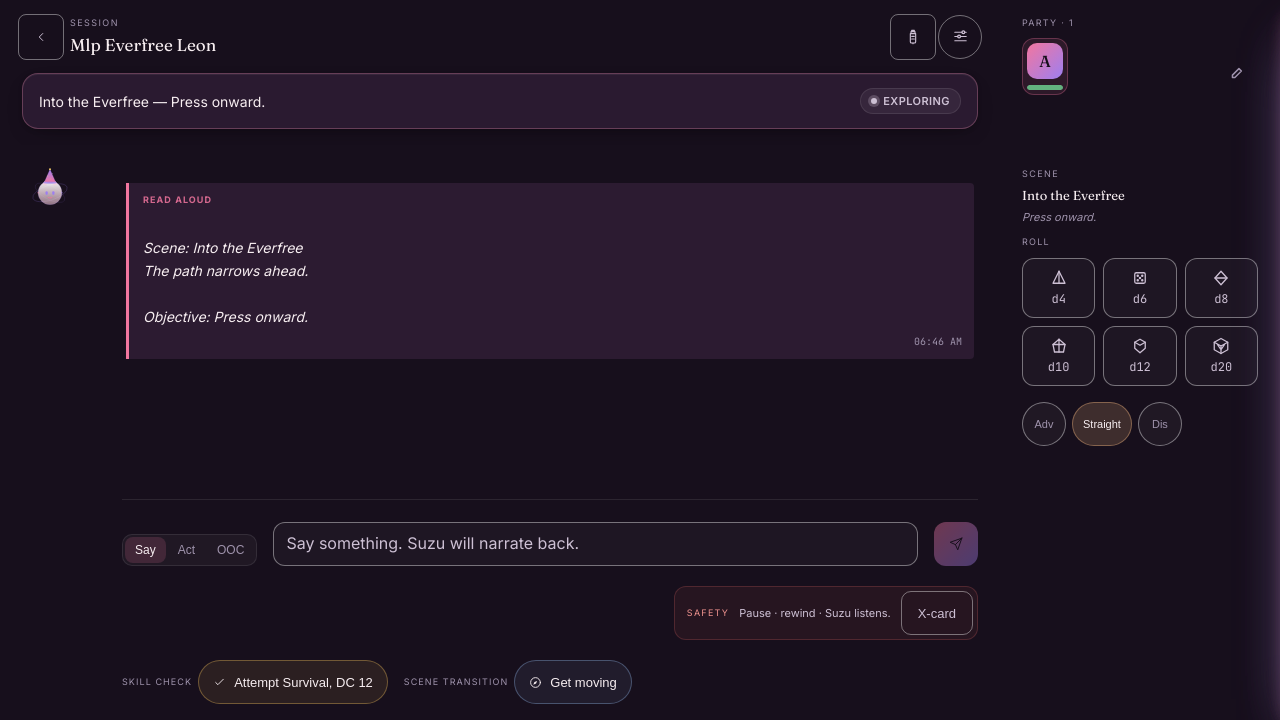
Test: DM-STREAM — narrate() streamMode chunk handling › Kage-CR CRITICAL (review pass) — a `done` that races ahead of the typewriter interval's first tick does not orphan a second streaming row
Type "I look around." into the text box at (596,544), box left=273, top=522, right=918, bottom=566
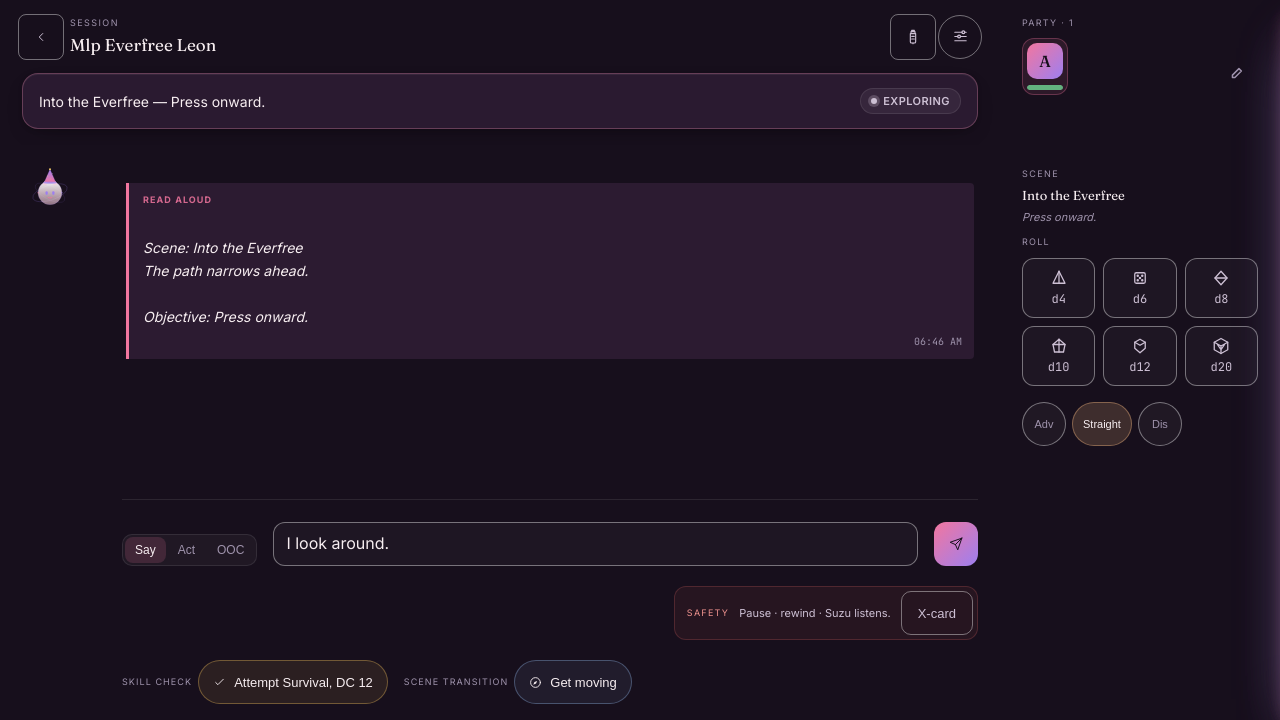
Press Enter in the text box, box left=273, top=522, right=918, bottom=566
Wait 5000 ms
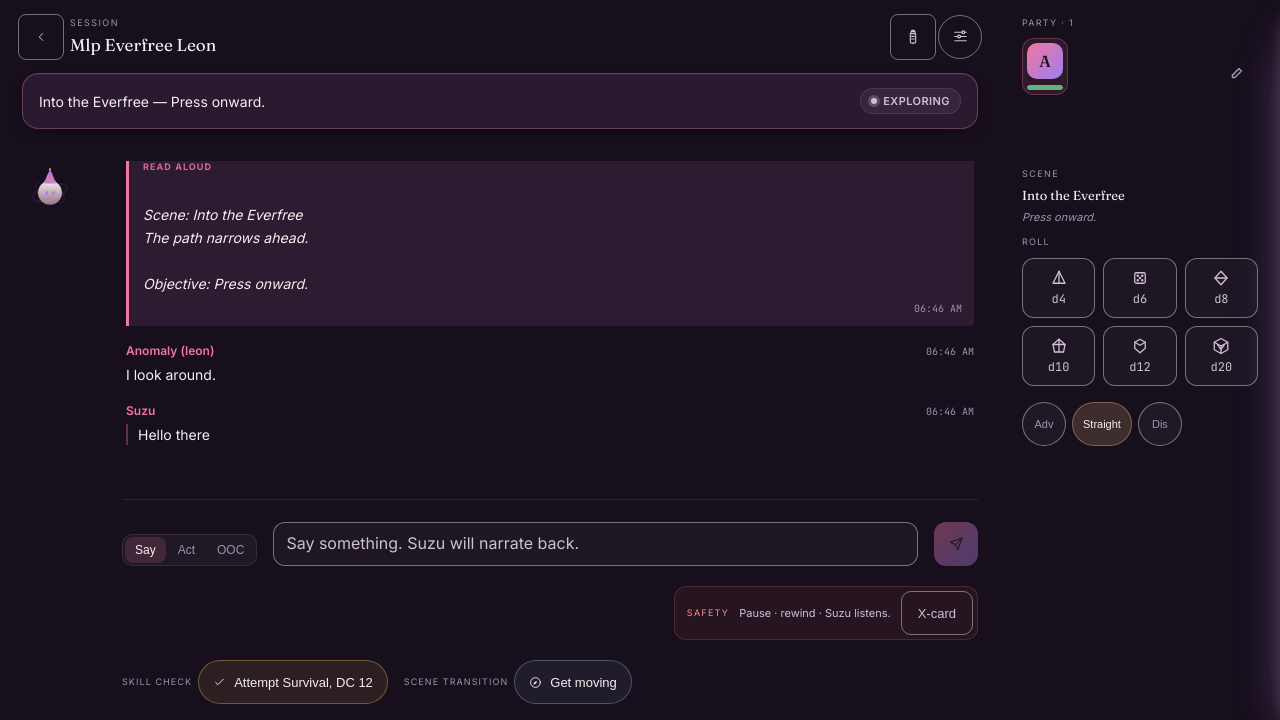
Now the text "Hello there" is shown once, box left=126, top=424, right=974, bottom=445
